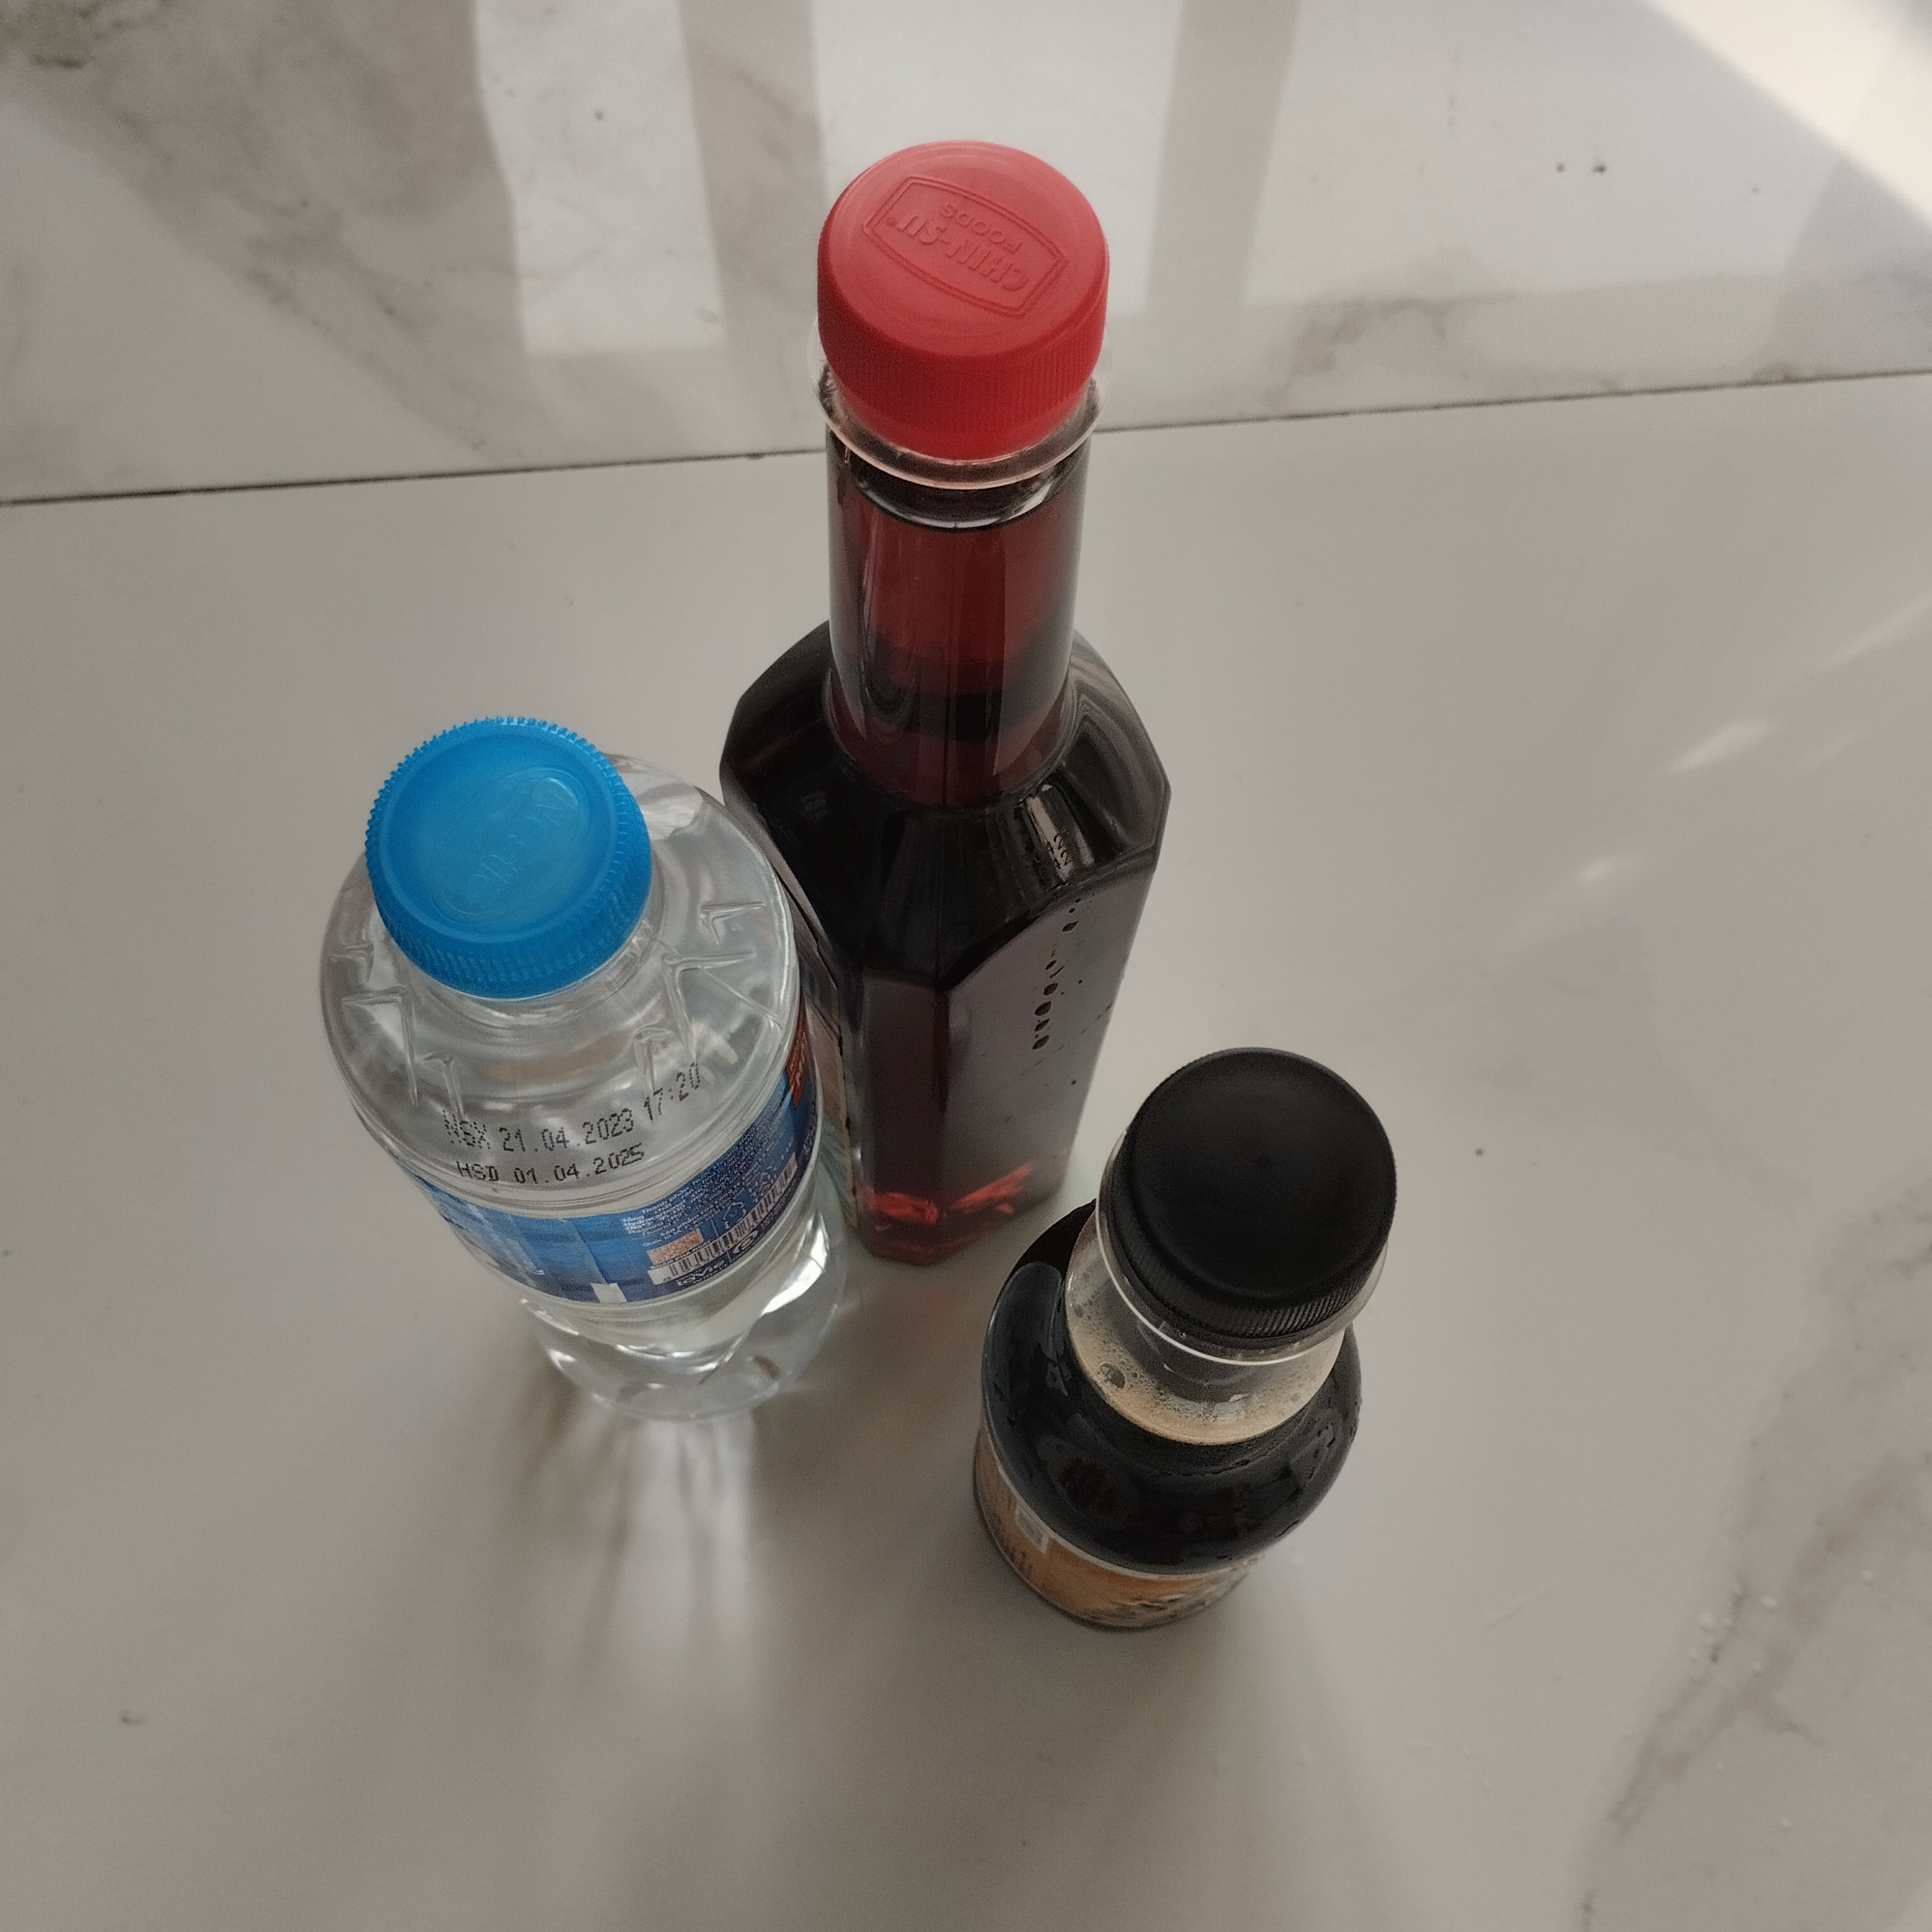247: (966, 1044, 1407, 1683)
Lavie: (313, 711, 846, 1412)
Namngu: (724, 145, 1169, 1256)
